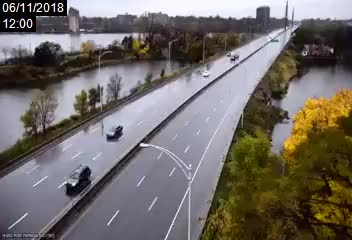personal_car: (62, 163, 96, 194), (105, 122, 125, 142), (200, 70, 212, 77)
